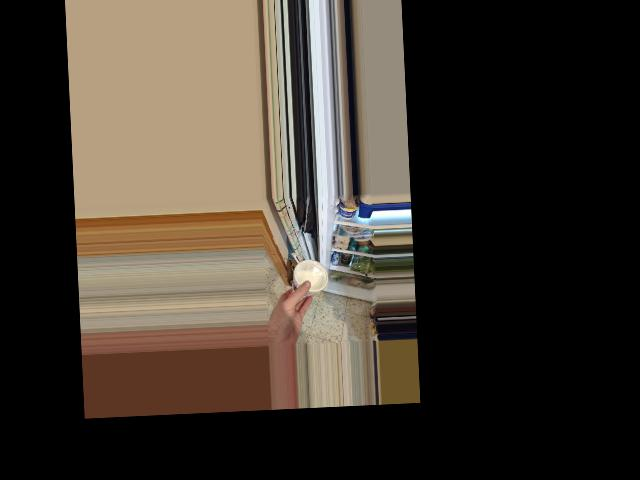cotage: (287, 255, 325, 294)
